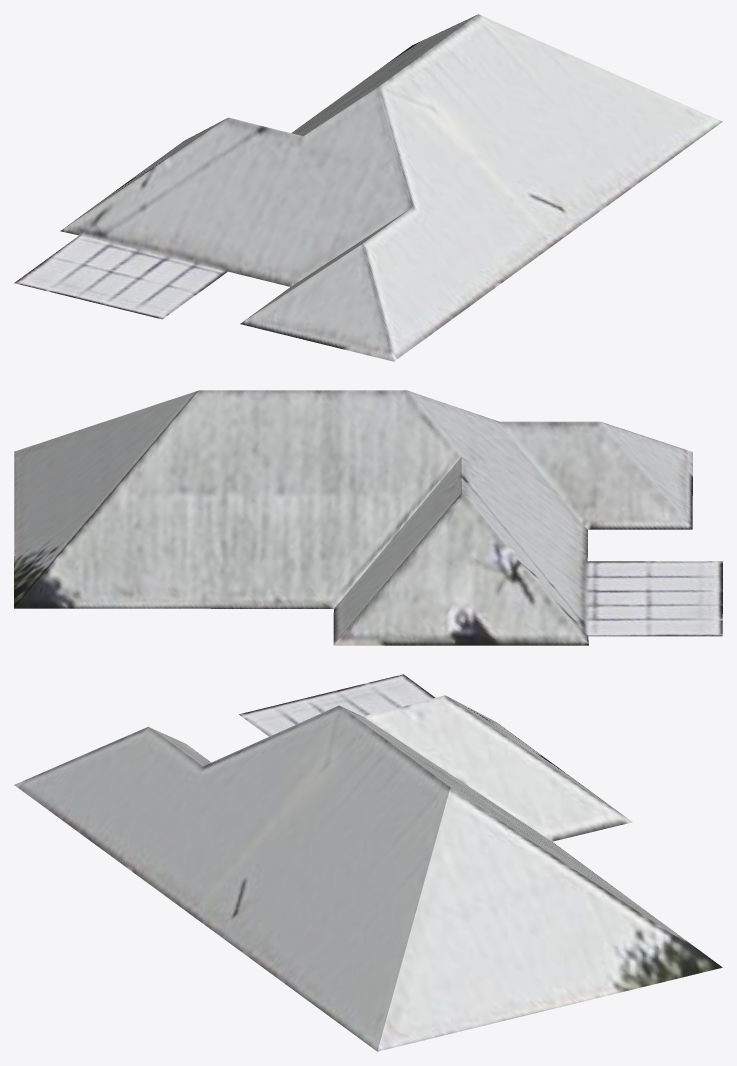
File: BK39_500_017031_0012_roof.obj
The picture shows the model from 3 angles, top to bottom: view 1: azimuth 30°, elevation 25°; view 2: azimuth 150°, elevation 25°; view 3: azimuth 270°, elevation 25°; orthographic projection. The views are drawn at different scales.
Visible parts, largest first — view 1: BK39_500_017031_0012_roof; view 2: BK39_500_017031_0012_roof; view 3: BK39_500_017031_0012_roof.
Boxes of the visible parts, box(x1,y1,x2,y2) form: BK39_500_017031_0012_roof: box(14, 14, 722, 361); BK39_500_017031_0012_roof: box(14, 390, 722, 645); BK39_500_017031_0012_roof: box(14, 674, 722, 1051).
Bounding box in the file's own units: 378 × 70 × 300.
Materials: 1 (1 with a texture image).
